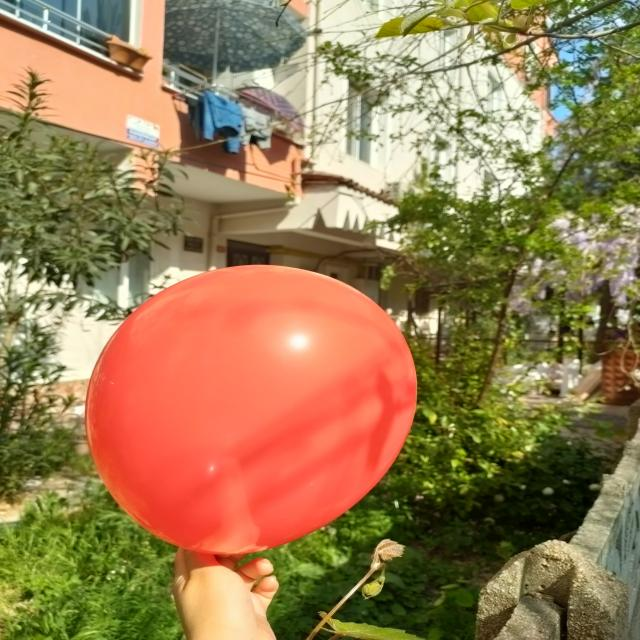red: (87, 266, 419, 557)
